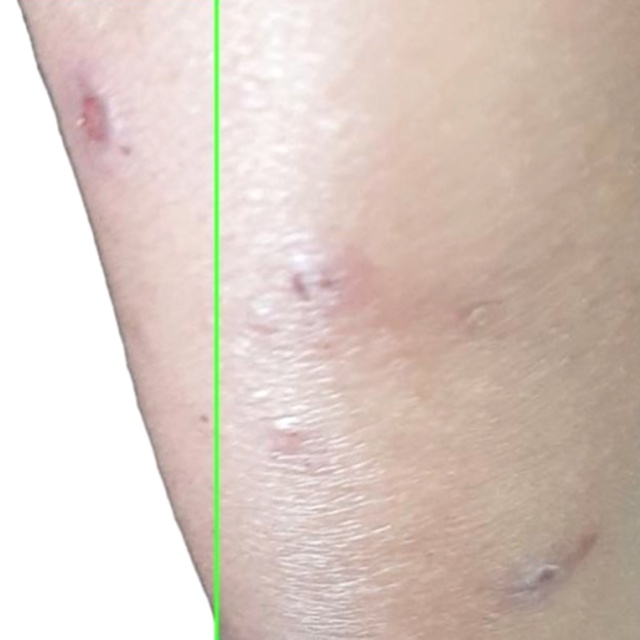Eczema: (0, 0, 216, 639)
